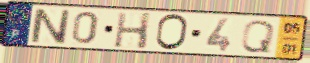0: (71, 10, 101, 46)
4: (203, 16, 233, 53)
H: (112, 11, 154, 51)
N: (30, 7, 72, 46)
O: (154, 13, 190, 52)
Q: (238, 19, 277, 54)
